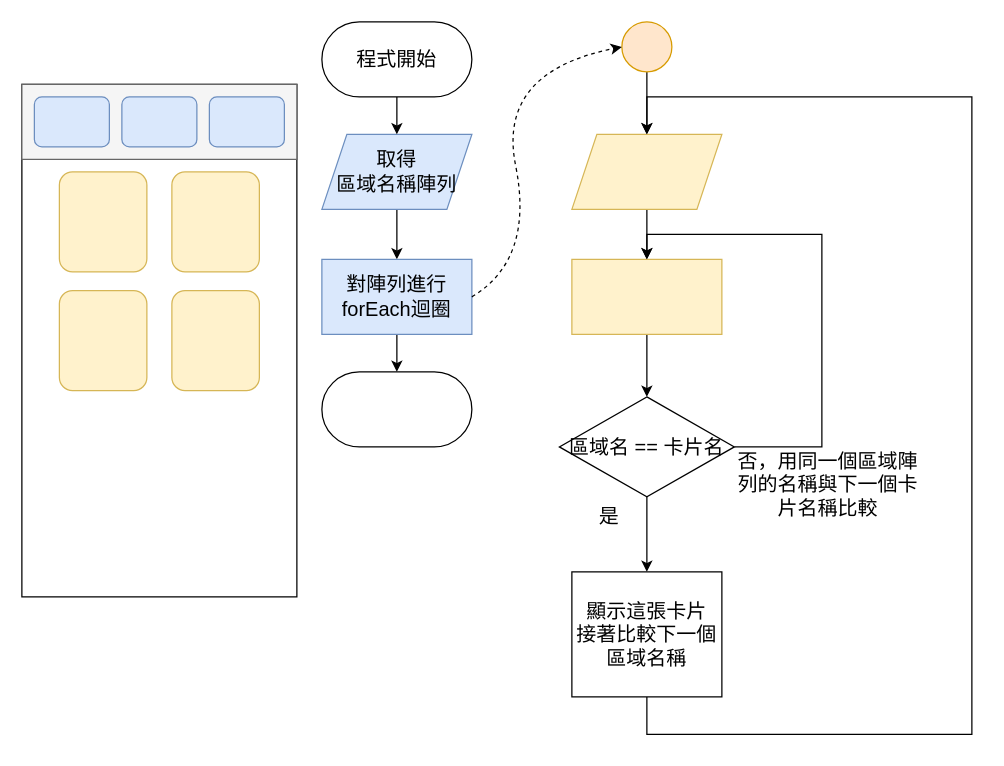
The diagram is 1004 pixels wide and 766 high, and some of its shapes have lost their labels. Each missing label, with the centre of its shape:
取得 卡片陣列: the point at 646,171
對卡片陣列進行forEach迴圈: the point at 646,296
程式結束: the point at 396,409
